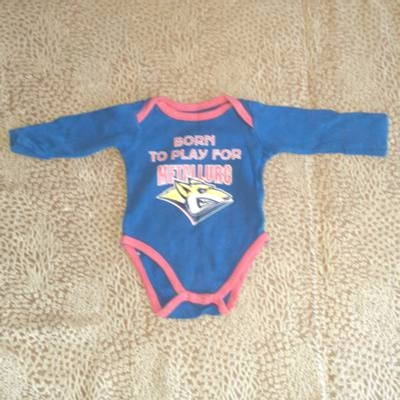Body: (0, 66, 385, 321)
